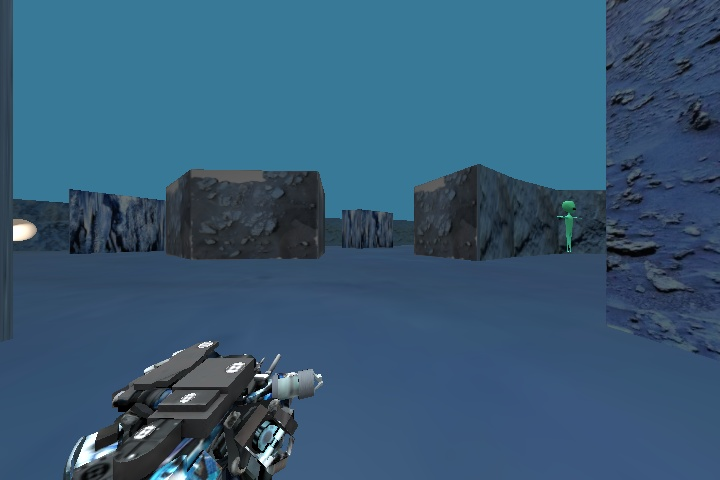green_alien: (552, 189, 585, 255)
white_sphere: (9, 211, 52, 250)
